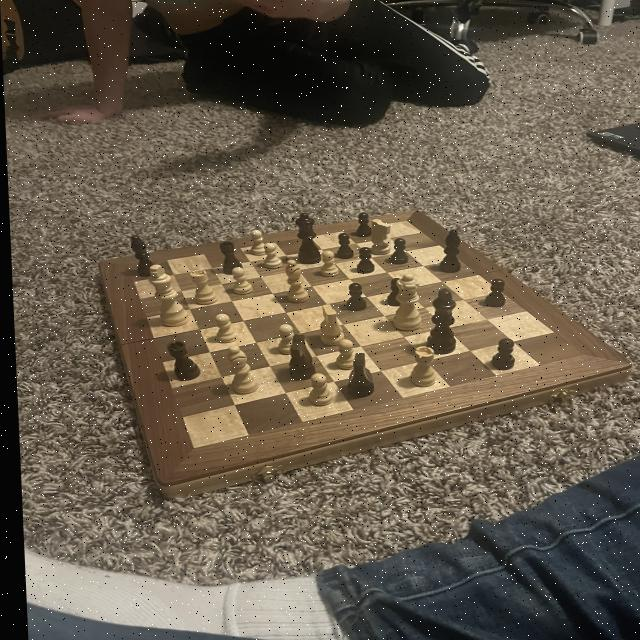bishop: (433, 228, 462, 276), (127, 234, 153, 279)
black-bishop: (421, 288, 456, 356)
black-king: (280, 331, 315, 383), (338, 352, 373, 398)
black-knight: (483, 338, 516, 370), (478, 276, 505, 310), (340, 282, 367, 312), (329, 232, 355, 262), (380, 277, 405, 308), (385, 237, 409, 265), (350, 247, 374, 274), (349, 210, 371, 238)
black-pawn: (289, 210, 324, 264)
black-queen: (159, 339, 201, 382), (214, 239, 242, 275)
black-rook: (221, 342, 261, 397), (280, 258, 309, 306)
white-bishop: (141, 263, 191, 330)
white-king: (311, 302, 344, 348), (363, 218, 390, 256)
white-knight: (300, 371, 334, 408), (270, 323, 299, 358), (209, 311, 237, 347), (328, 338, 355, 372), (225, 265, 253, 297), (312, 249, 339, 279), (257, 240, 282, 270), (243, 229, 268, 257)
white-pawn: (385, 272, 422, 332)
white-queen: (402, 344, 436, 389), (185, 269, 218, 309)
